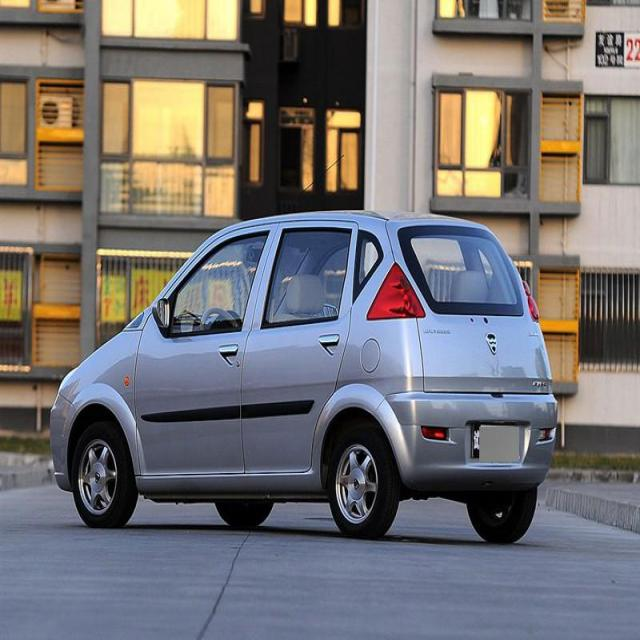back_glass: (397, 223, 523, 315)
back_left_side_light: (366, 262, 427, 323)
back_right_side_light: (522, 278, 540, 324)
door: (238, 222, 359, 482)
front_bumper: (46, 384, 76, 495)
front_left_side_door: (134, 220, 282, 480)
front_left_side_mirror: (148, 296, 178, 336)
rear_bumper: (370, 386, 561, 490)
wheel: (326, 424, 393, 540), (71, 421, 134, 529)
